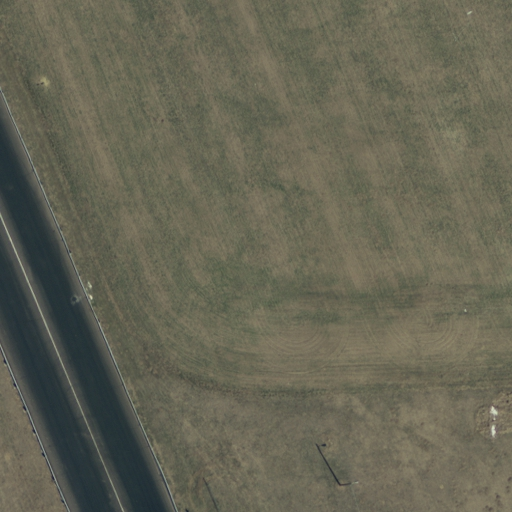DT: (328, 464, 365, 500)
